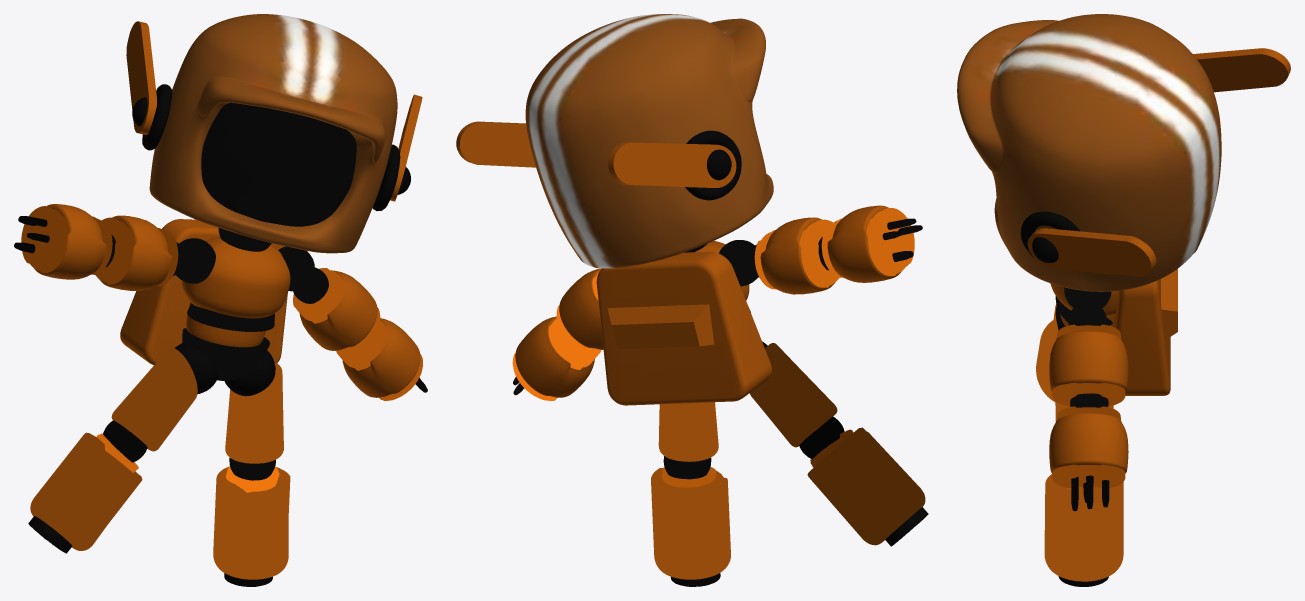
File: k-vrc-tiny.glb
3 views of the same model, side by side, from view 1: azimuth 30°, elevation 25°; view 2: azimuth 150°, elevation 25°; view 3: azimuth 270°, elevation 25° (orthographic). The views are drawn at different scales.
Parts seen in each view (by area): view 1: Object_86, Object_6, Object_56, Object_8, Object_88, Object_12; view 2: Object_86, Object_6, Object_56, Object_12, Object_8; view 3: Object_86, Object_6, Object_56, Object_8, Object_12.
Part boxes in pixels (box(x1,y1,x2,y2)): Object_86: box(149, 14, 397, 253); Object_6: box(34, 21, 422, 397); Object_56: box(30, 348, 290, 579); Object_8: box(14, 84, 427, 586); Object_88: box(201, 102, 356, 226); Object_12: box(21, 206, 422, 492); Object_86: box(525, 14, 773, 268); Object_6: box(456, 121, 901, 405); Object_56: box(651, 343, 925, 579); Object_12: box(512, 208, 914, 487); Object_8: box(513, 130, 928, 586); Object_86: box(957, 14, 1221, 291); Object_6: box(1027, 48, 1290, 473); Object_56: box(1036, 304, 1123, 581); Object_8: box(1020, 211, 1112, 586); Object_12: box(1052, 324, 1125, 490).
Size of what is drawn, in the model's own units: 9.12 by 10.99 by 5.92.
Materials: 6 (2 with a texture image).
